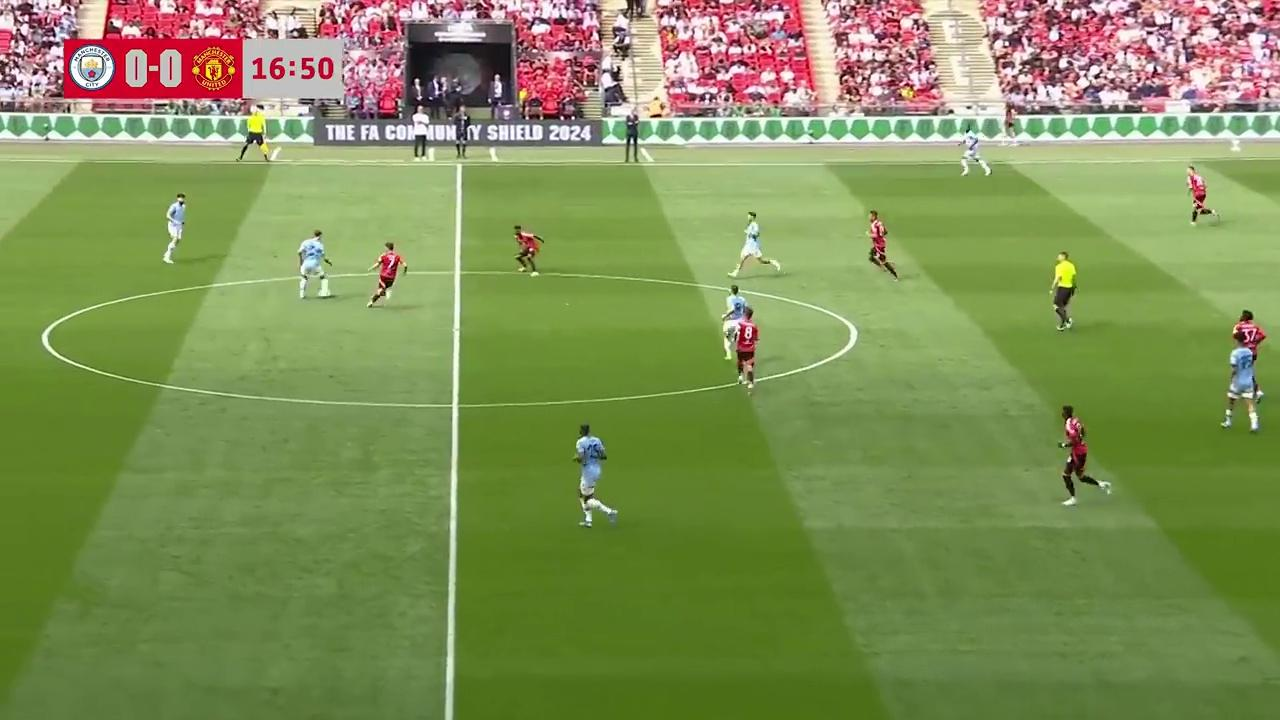player: (1057, 406, 1112, 505), (572, 422, 617, 528), (1220, 338, 1263, 432), (731, 211, 781, 277), (366, 240, 407, 308), (297, 230, 333, 300), (1231, 310, 1266, 382), (725, 309, 756, 389), (731, 310, 760, 395), (867, 211, 899, 281), (720, 285, 749, 352), (162, 192, 187, 264), (1186, 166, 1217, 224), (513, 224, 543, 276), (959, 133, 990, 177), (720, 289, 739, 358)
referee: (237, 105, 271, 161), (1050, 251, 1076, 324)
